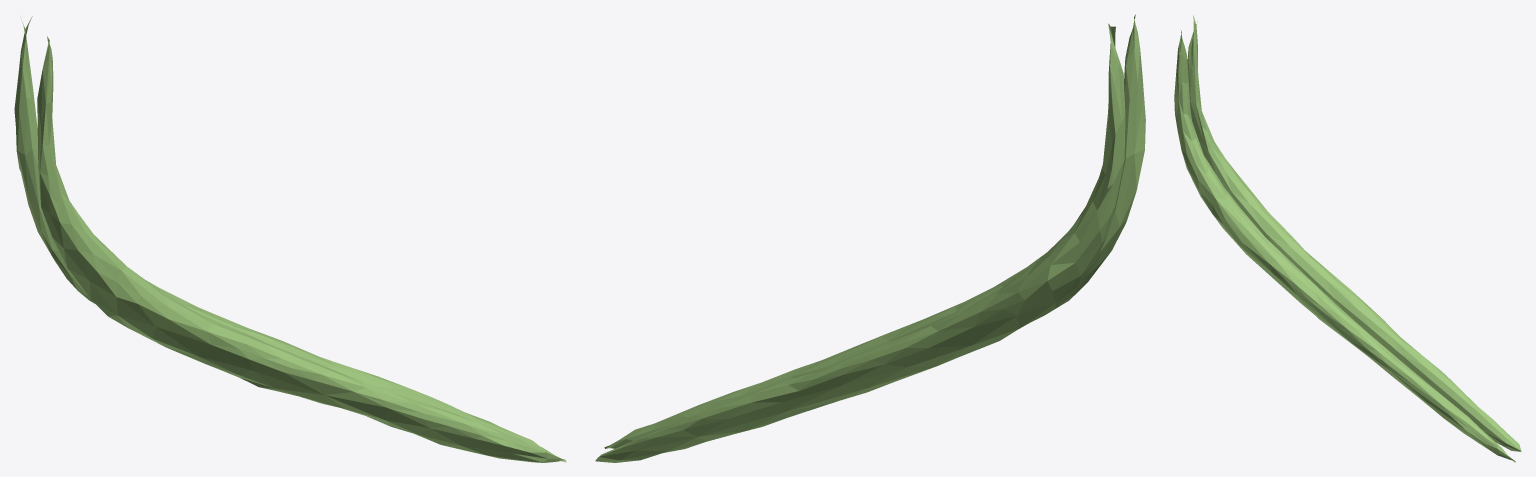
The picture shows the model from 3 angles, left to right: view 1: azimuth 30°, elevation 25°; view 2: azimuth 150°, elevation 25°; view 3: azimuth 330°, elevation 25°; orthographic projection. The views are drawn at different scales.
Parts seen in each view (by area): view 1: 19.obj; view 2: 19.obj; view 3: 19.obj.
Boxes of the visible parts, x1,y1,x2,y2 form: 19.obj: (14, 16, 566, 462); 19.obj: (595, 14, 1145, 462); 19.obj: (1174, 15, 1521, 462).
Size of the model in its own units: 1968 by 1986 by 307.
